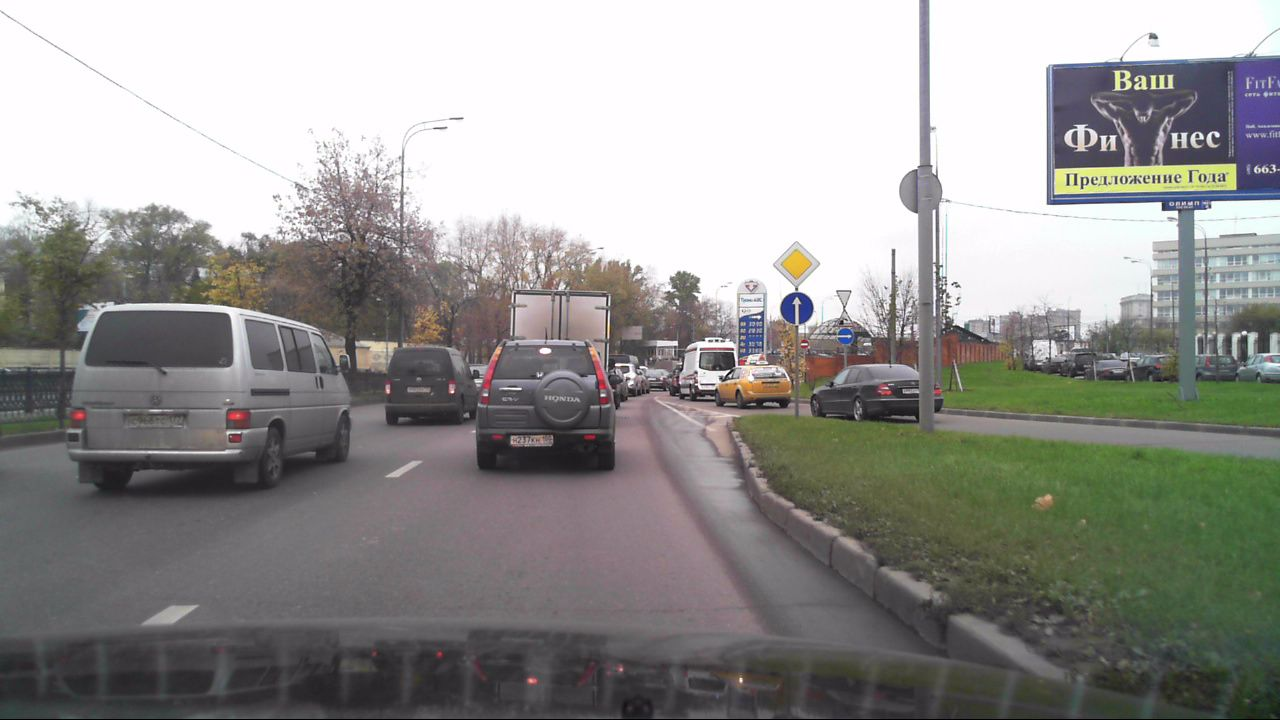Turn Right: (837, 328, 854, 345)
